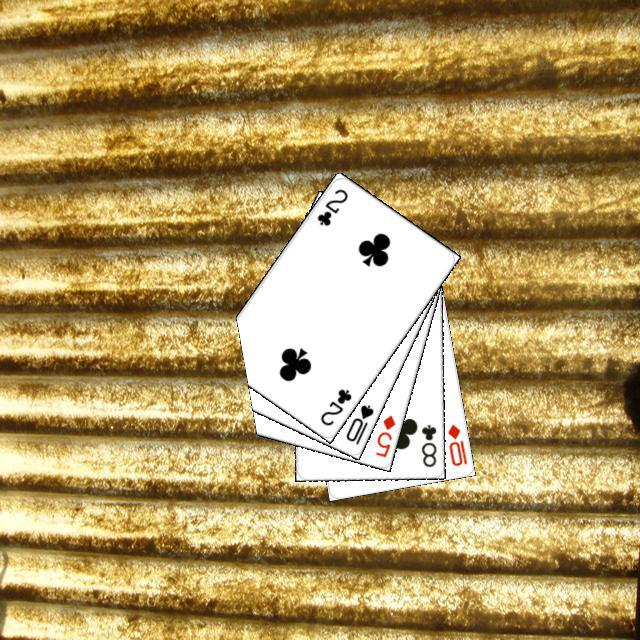10d: (443, 419, 469, 468)
10s: (341, 400, 376, 446)
2c: (315, 384, 354, 428), (312, 184, 350, 228)
5d: (370, 410, 397, 459)
8c: (416, 419, 438, 468)
